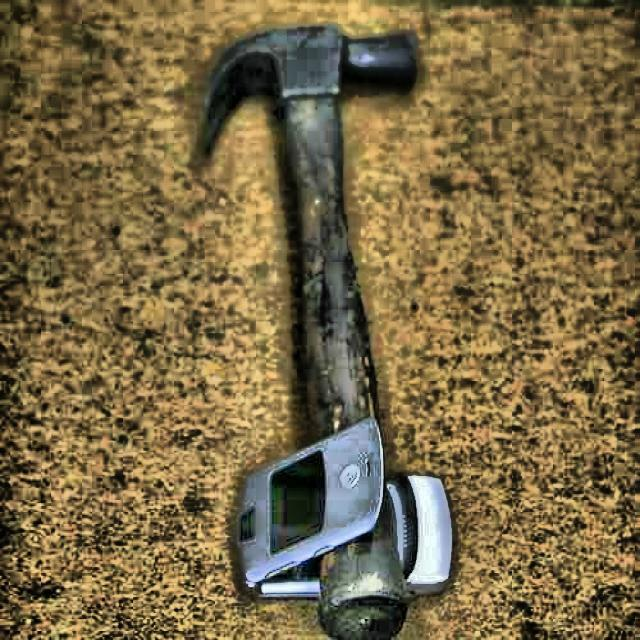hammer: (196, 20, 420, 423)
